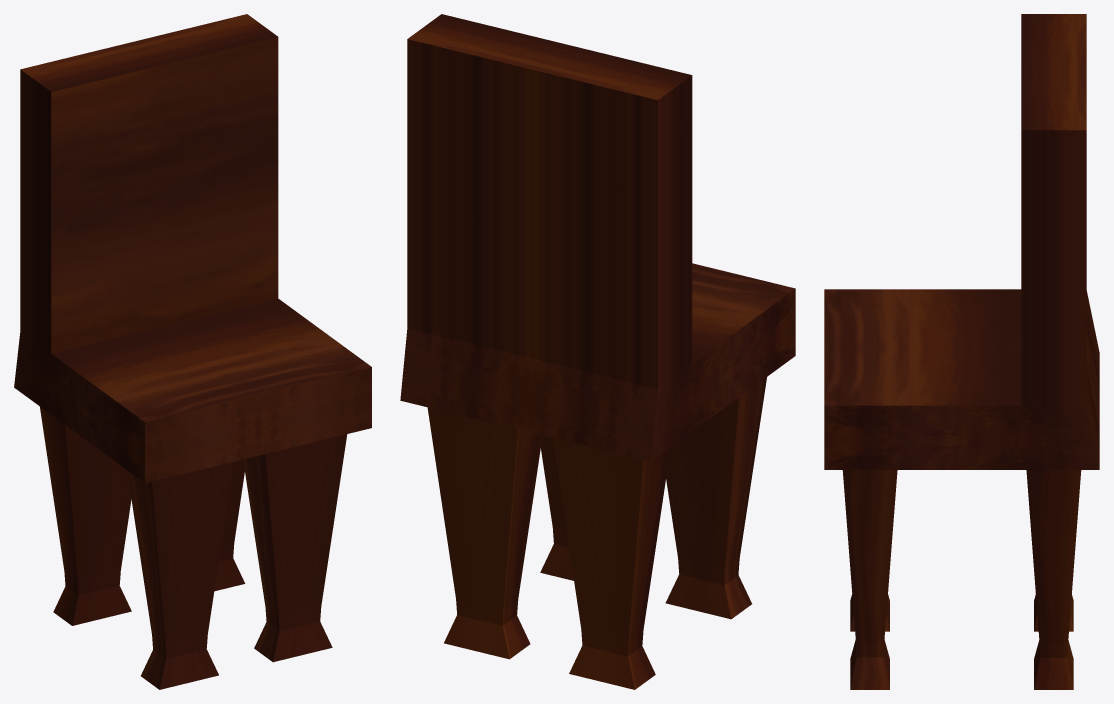
The model's file is staff_chairs.glb.
The picture shows the model from 3 angles, left to right: view 1: azimuth 30°, elevation 25°; view 2: azimuth 150°, elevation 25°; view 3: azimuth 270°, elevation 25°; orthographic projection. The views are drawn at different scales.
Visible parts, largest first — view 1: Cube; view 2: Cube; view 3: Cube.
Part boxes in pixels (x1,y1,x2,y2): Cube: (14, 14, 371, 689); Cube: (400, 14, 795, 689); Cube: (824, 14, 1099, 689).
Bounding box in the file's own units: 0.771 × 1.77 × 0.771.
Materials: 1 (1 with a texture image).
